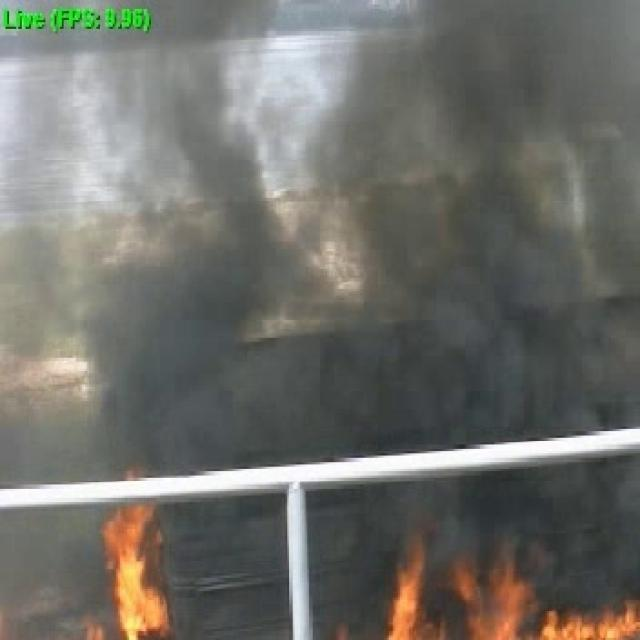Fire: (379, 571, 636, 640), (104, 502, 162, 637)
Smoke: (354, 56, 625, 431), (124, 42, 249, 454)
